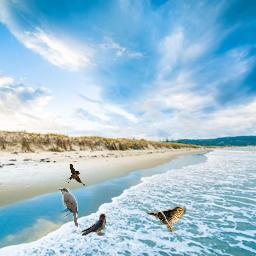Cuckoo: (58, 188, 78, 228)
Sparrow: (146, 206, 186, 232)
Swallow: (77, 213, 106, 236), (66, 164, 85, 186)
